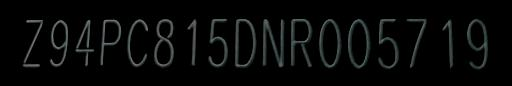letter: (462, 15, 492, 73), (230, 15, 260, 71), (374, 14, 402, 72), (316, 15, 344, 73), (286, 16, 316, 70), (122, 15, 150, 71), (258, 15, 286, 69), (204, 16, 232, 70), (150, 16, 178, 70), (346, 16, 372, 74), (404, 12, 428, 74), (20, 15, 46, 67), (98, 17, 124, 69), (72, 17, 96, 71), (438, 14, 458, 72), (48, 18, 70, 70), (182, 17, 200, 69)
